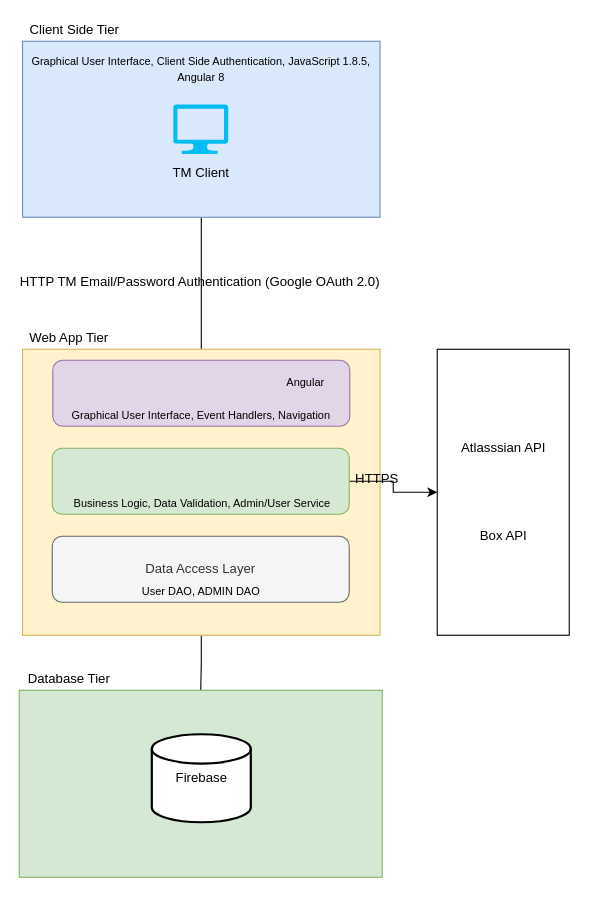
Some shapes in this 589 by 897 pixel diagram are drawn without their labels. Each missing label, with the box of its shape:
Business Logic Layer: (51, 447, 349, 514)
Presentation Layer: (52, 359, 350, 426)
